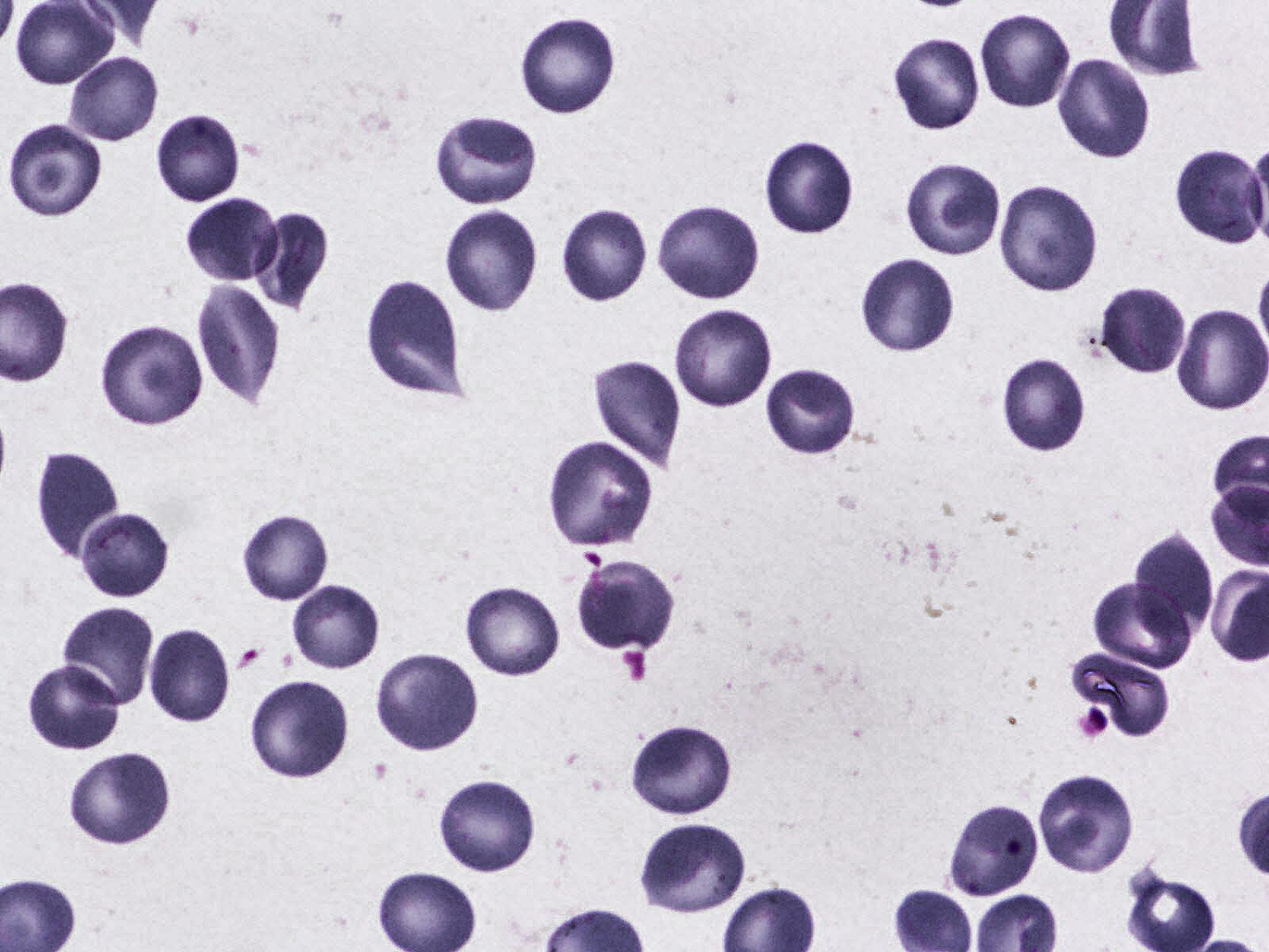Uninfected: (547, 438, 653, 553), (669, 305, 778, 412), (1002, 186, 1101, 298), (519, 12, 619, 119), (592, 360, 687, 472), (372, 280, 466, 393), (1037, 775, 1139, 877), (657, 202, 761, 302), (251, 677, 351, 780), (67, 750, 172, 847), (446, 209, 542, 315), (1057, 57, 1151, 162), (439, 779, 539, 877), (1130, 533, 1213, 651), (576, 561, 681, 654), (433, 118, 539, 209), (377, 653, 476, 750), (861, 255, 957, 355), (466, 583, 564, 680), (1070, 651, 1171, 745), (102, 329, 201, 424), (198, 282, 274, 405), (903, 159, 1000, 255), (766, 137, 857, 236), (1091, 582, 1192, 671), (642, 824, 744, 912), (40, 449, 122, 558), (8, 127, 103, 221), (1179, 310, 1269, 409), (765, 364, 858, 457), (980, 14, 1072, 108), (184, 196, 280, 286), (26, 662, 123, 751), (894, 36, 983, 133), (1003, 355, 1091, 453), (562, 208, 650, 305), (67, 54, 161, 144), (1176, 148, 1264, 244), (633, 728, 730, 815), (67, 608, 151, 708), (948, 808, 1037, 900), (243, 512, 331, 605), (79, 513, 175, 597), (1095, 287, 1183, 374), (293, 585, 378, 669), (151, 633, 229, 724), (157, 117, 237, 204), (254, 213, 325, 311)
